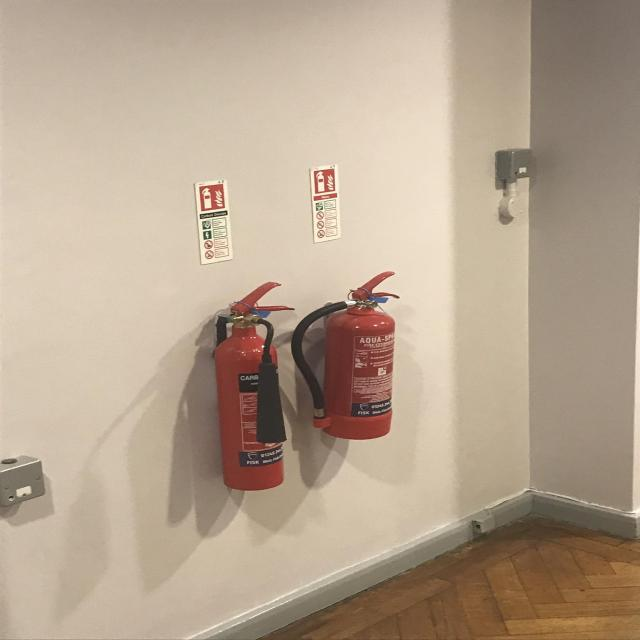Fire-Extinguisher: (202, 275, 292, 491), (300, 262, 399, 446)
